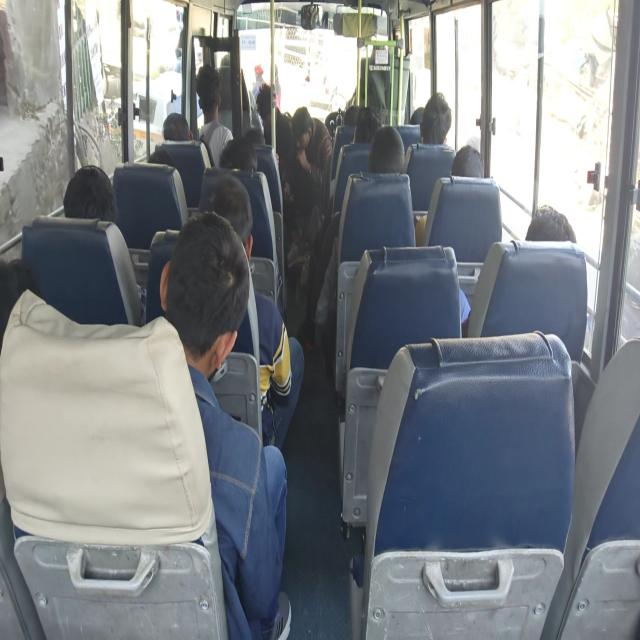person: (158, 210, 292, 638), (198, 168, 304, 450), (314, 125, 407, 376), (459, 204, 577, 336), (63, 164, 144, 324), (196, 64, 233, 168), (218, 54, 264, 137), (62, 164, 118, 224), (290, 106, 332, 186), (255, 82, 292, 162), (525, 204, 577, 243), (367, 124, 405, 174), (419, 91, 452, 145), (219, 136, 258, 170), (451, 144, 485, 178), (353, 106, 381, 143), (162, 112, 191, 141)
